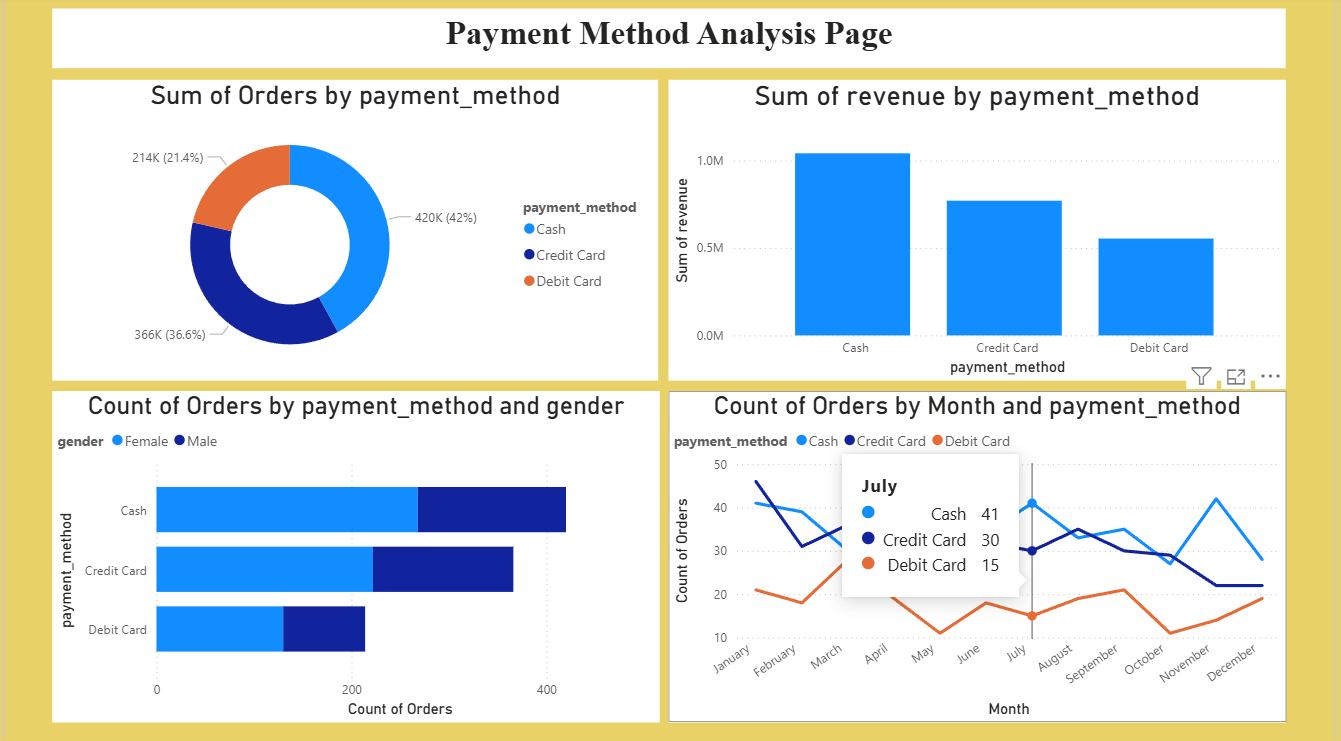

The page's visual inventory and layout, read from the dashboard file:
{"tool":"powerbi","page":{"name":"Payment Method","canvas":[1280,720],"ordinal":2},"visuals":[{"type":"donutChart","fields":{"Category":["proj1.payment_method"],"Y":["Sum(proj1.Orders)"]},"box":[44.6,80.8,585.1,290.8],"z":0},{"type":"clusteredColumnChart","fields":{"Y":["Sum(proj1.revenue)"],"Category":["proj1.payment_method"]},"box":[639.4,80.8,596,290.8],"z":1000},{"type":"barChart","fields":{"Category":["proj1.payment_method"],"Series":["proj1.gender"],"Y":["CountNonNull(proj1.Orders)"]},"box":[44.6,381.2,586.3,319.7],"z":2000},{"type":"lineChart","fields":{"Y":["CountNonNull(proj1.Orders)"],"Category":["proj1.invoice_date.Variation.Date Hierarchy.Month"],"Series":["proj1.payment_method"]},"box":[639.4,381.2,596,319.7],"z":3000},{"type":"textbox","box":[44.6,12.1,1190.8,57.9],"z":4000}]}

Visuals, with their boxes in screenshot pixels (x1, y1, x2, y2), scaled from the page's 1280x720 canvas onto the 1341x741 screenshot:
donutChart - proj1.payment_method x Sum(proj1.Orders): [x1=47, y1=83, x2=660, y2=382]
clusteredColumnChart - Sum(proj1.revenue) x proj1.payment_method: [x1=670, y1=83, x2=1294, y2=382]
barChart - proj1.payment_method x proj1.gender: [x1=47, y1=392, x2=661, y2=721]
lineChart - CountNonNull(proj1.Orders) x proj1.invoice_date.Variation.Date Hierarchy.Month: [x1=670, y1=392, x2=1294, y2=721]
textbox: [x1=47, y1=12, x2=1294, y2=72]
